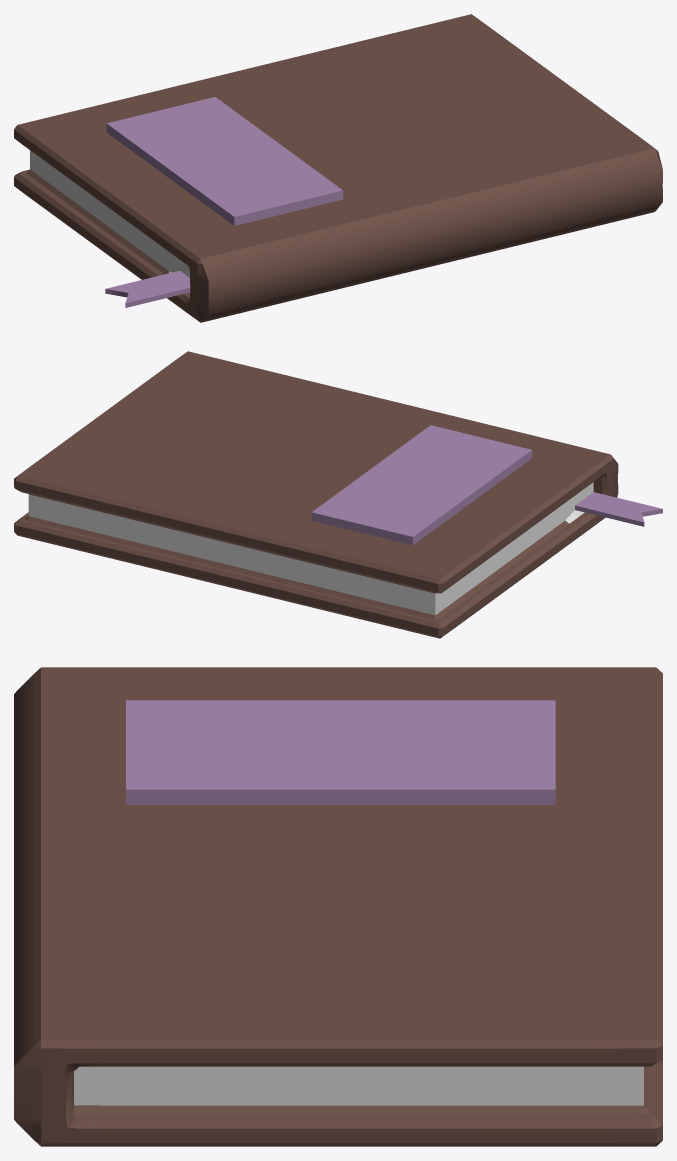
File: booko.fbx
The picture shows the model from 3 angles, top to bottom: view 1: azimuth 30°, elevation 25°; view 2: azimuth 150°, elevation 25°; view 3: azimuth 270°, elevation 25°; orthographic projection. The views are drawn at different scales.
Parts seen in each view (by area): view 1: pCube1; view 2: pCube1; view 3: pCube1.
Part boxes in pixels (<box>): pCube1: <box>14,14,662,322</box>; pCube1: <box>14,351,662,638</box>; pCube1: <box>14,667,662,1146</box>.
Size of the model in its own units: 1.58 by 0.2097 by 1.01.
